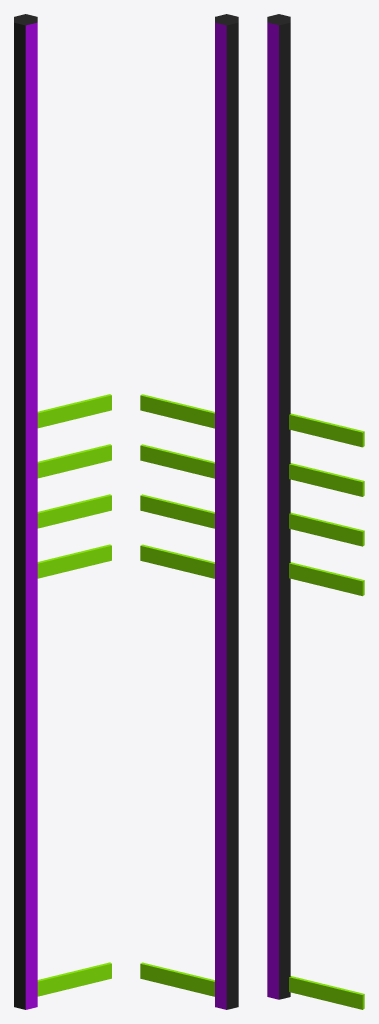
The model's file is Thingie.fbx.
The picture shows the model from 3 angles, left to right: view 1: azimuth 30°, elevation 25°; view 2: azimuth 150°, elevation 25°; view 3: azimuth 330°, elevation 25°; orthographic projection.
Parts seen in each view (by area): view 1: Cylinder001; view 2: Cylinder001; view 3: Cylinder001.
Part boxes in pixels (<box>): Cylinder001: <box>14,14,111,1009</box>; Cylinder001: <box>140,14,238,1009</box>; Cylinder001: <box>267,14,364,1009</box>.
Size of the model in its own units: 81.11 by 786 by 17.03.
